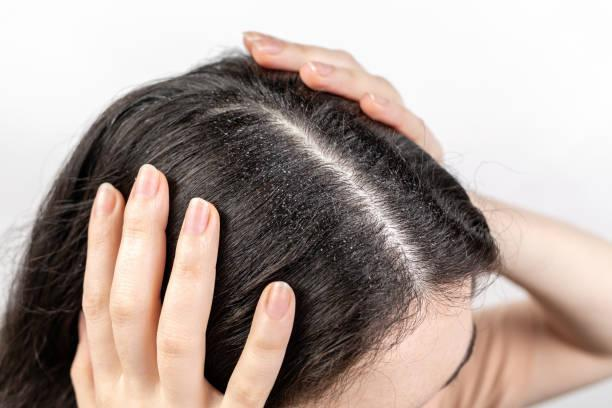dandruff: (287, 194, 372, 259), (339, 145, 425, 192), (208, 118, 280, 163), (230, 166, 271, 185), (399, 198, 408, 216), (141, 148, 154, 157), (296, 99, 307, 109), (443, 268, 452, 278), (426, 198, 434, 209), (285, 168, 295, 176), (209, 87, 216, 95)
